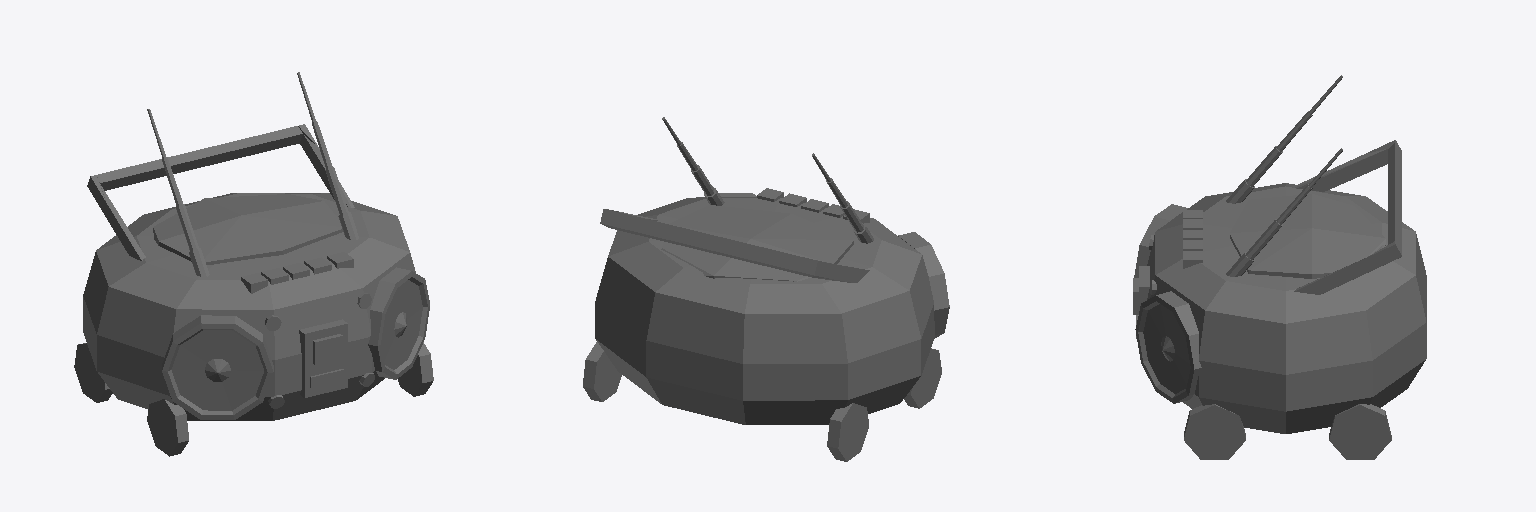
Rendered from Roomba2.obj.
The picture shows the model from 3 angles: view 1: azimuth 30°, elevation 25°; view 2: azimuth 150°, elevation 25°; view 3: azimuth 270°, elevation 25°; orthographic projection.
Visible parts, largest first — view 1: Mesh; view 2: Mesh; view 3: Mesh.
Boxes of the visible parts, x1=… form: Mesh: x1=74, y1=72, x2=433, y2=456; Mesh: x1=583, y1=117, x2=949, y2=461; Mesh: x1=1133, y1=75, x2=1426, y2=459.
Bounding box in the file's own units: 7.57 × 6.64 × 6.15.